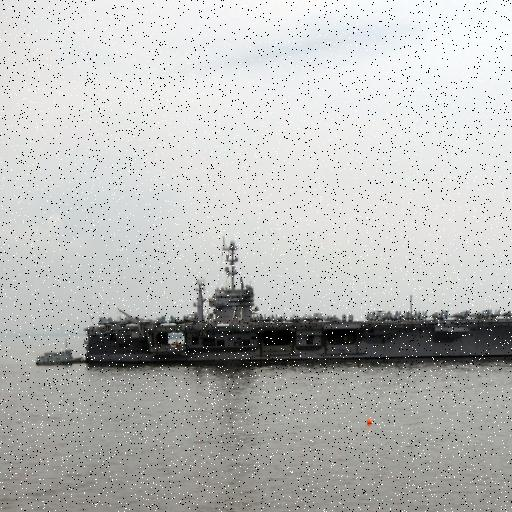Portanaves: (81, 231, 512, 369)
